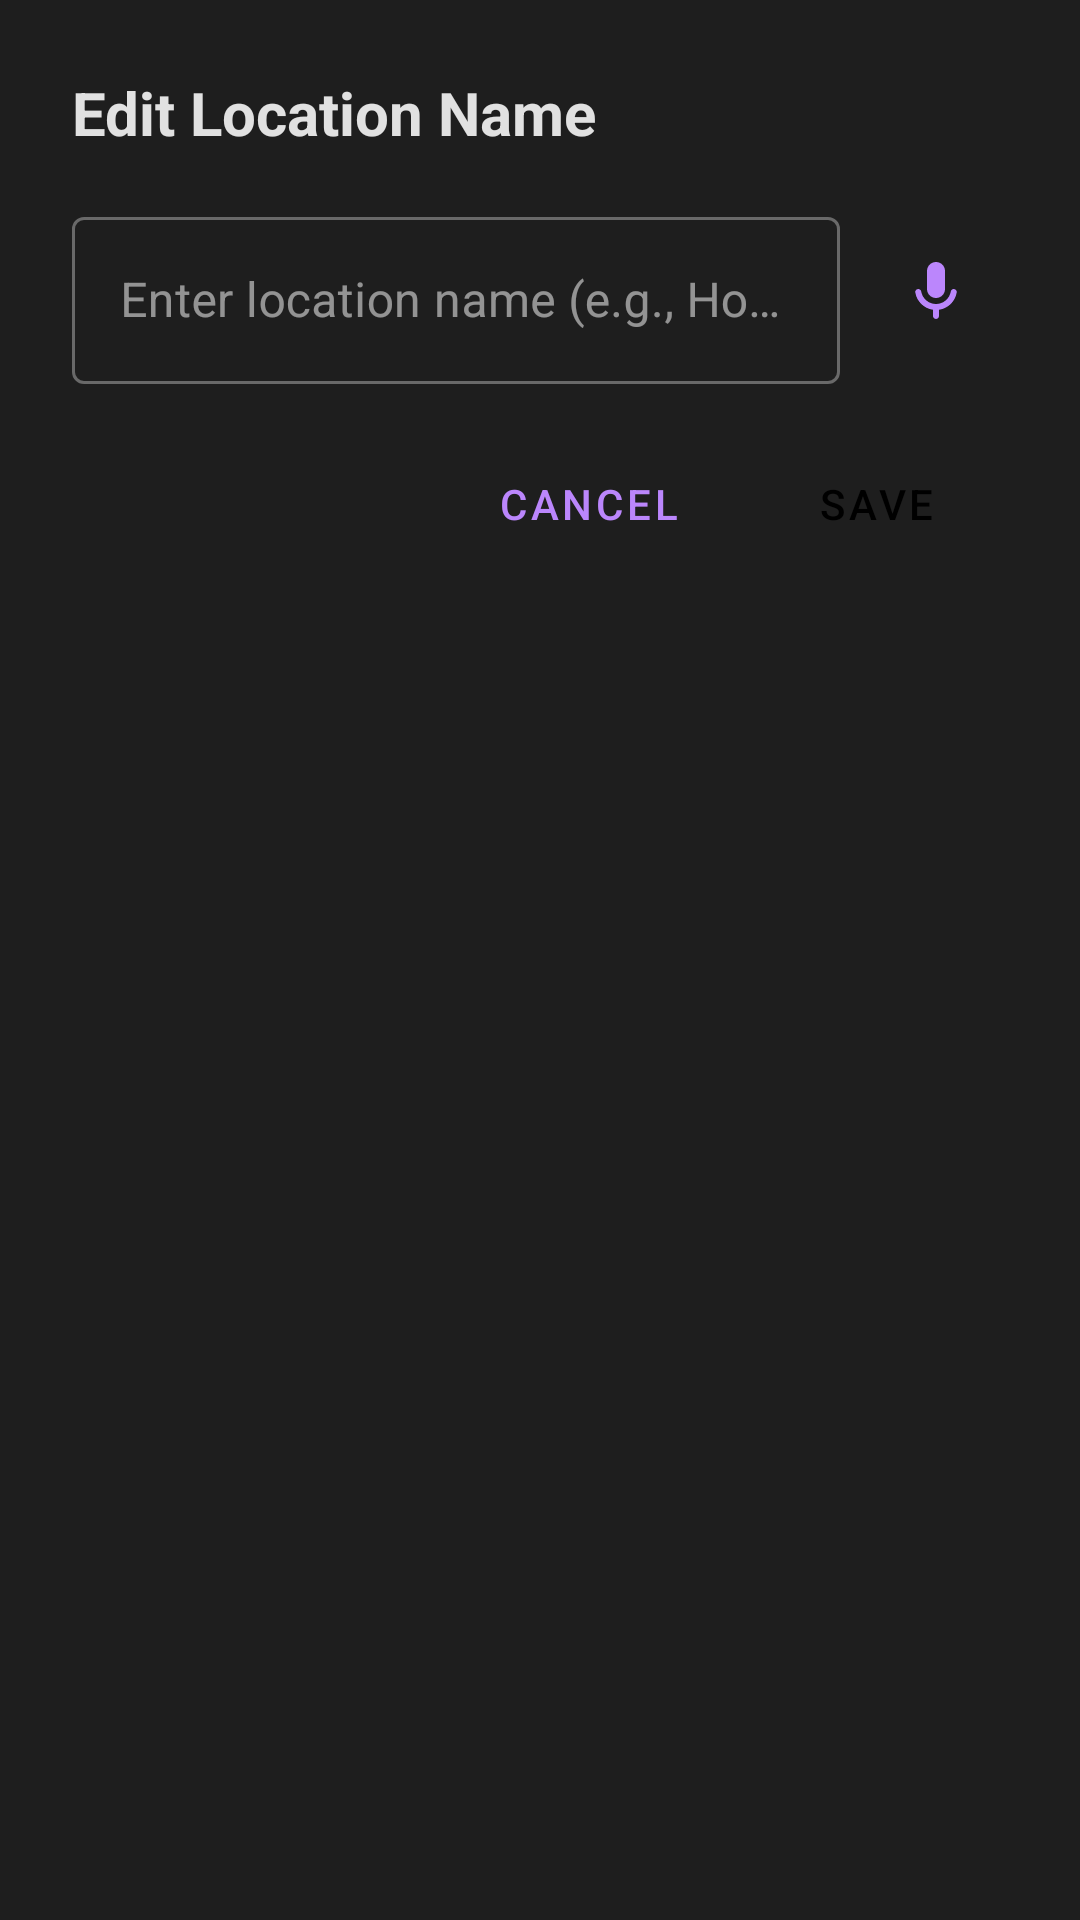

Where to tap for icons on this 1080 x 1920 app screen, as [x,y]:
mic: [936,290]
